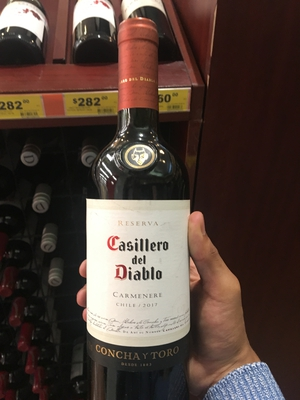casillero del diablo carmenere: (77, 12, 216, 400)
